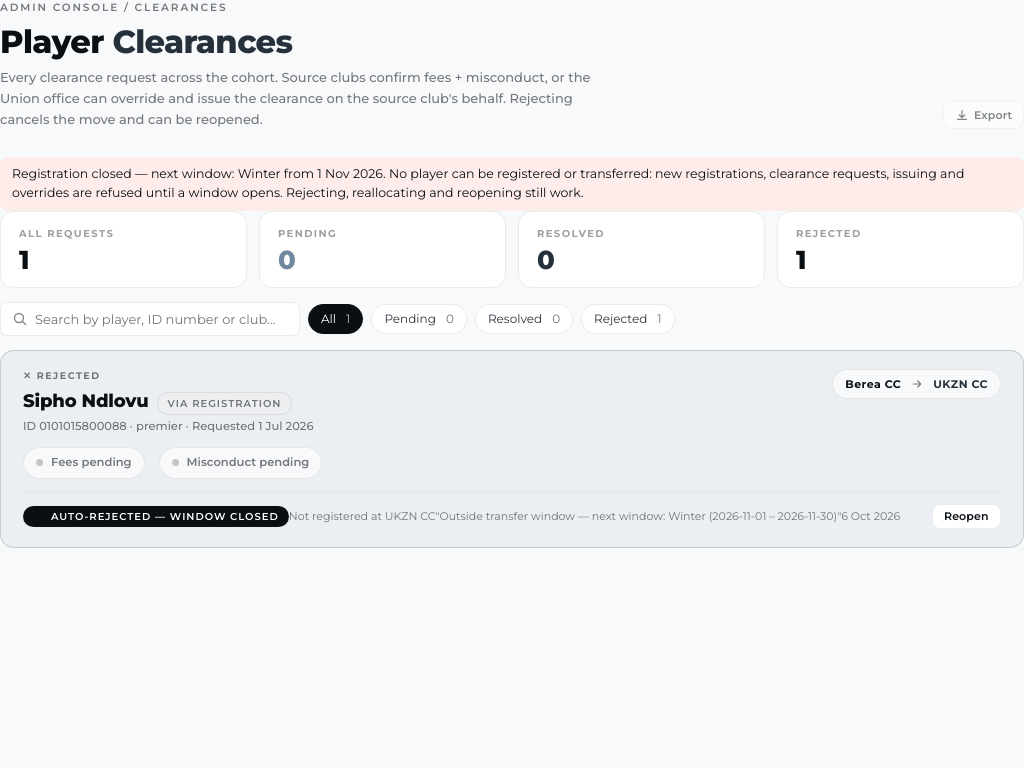
Test: completion freeze while closed › reopen while closed warns the clearance stays pending until the window opens
Click the button "Reopen" at (967, 516), box x1=932 y1=504 x2=1001 y2=529
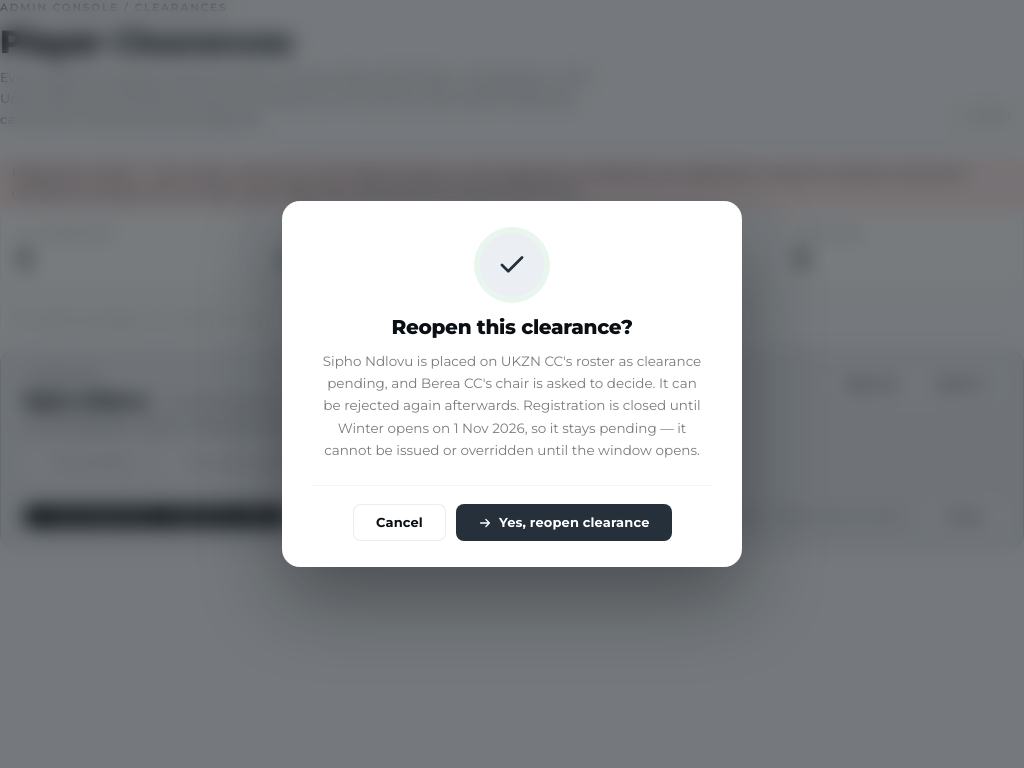
Expected: the text "so it stays pending — it cannot be issued or overridden" is shown, x1=323 y1=353 x2=701 y2=458
